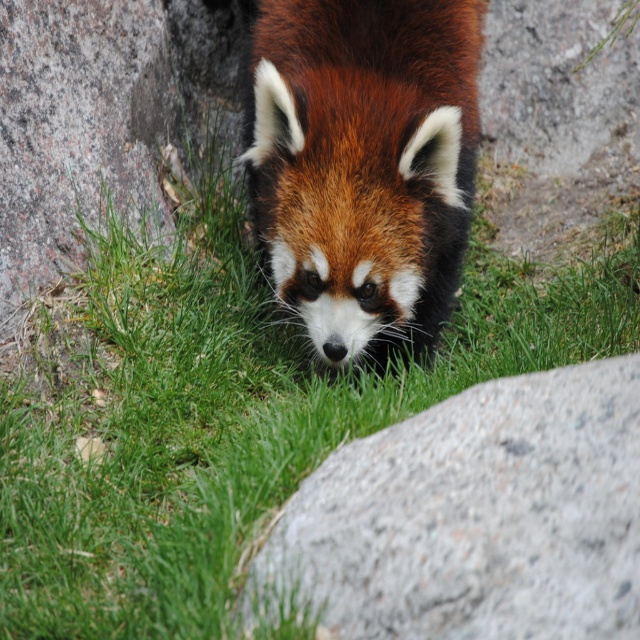Red panda: (230, 0, 489, 393)
